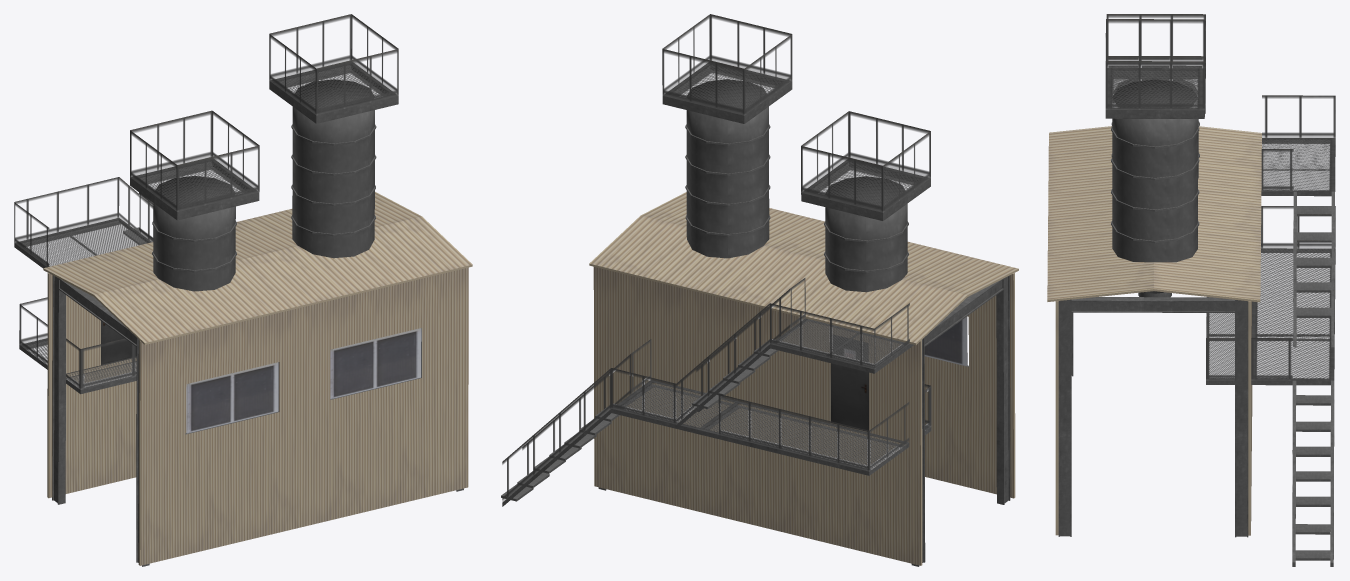
File: plant-building11-2.glb
The picture shows the model from 3 angles, left to right: view 1: azimuth 30°, elevation 25°; view 2: azimuth 150°, elevation 25°; view 3: azimuth 270°, elevation 25°; orthographic projection. The views are drawn at different scales.
Parts seen in each view (by area): view 1: Object8932610; view 2: Object8932610; view 3: Object8932610.
Part boxes in pixels (x1,y1,x2,y2): Object8932610: [14, 14, 472, 566]; Object8932610: [501, 14, 1018, 566]; Object8932610: [1047, 14, 1335, 566].
Bounding box in the file's own units: 10.52 × 11.46 × 6.57.
1 material, 1 textured.
